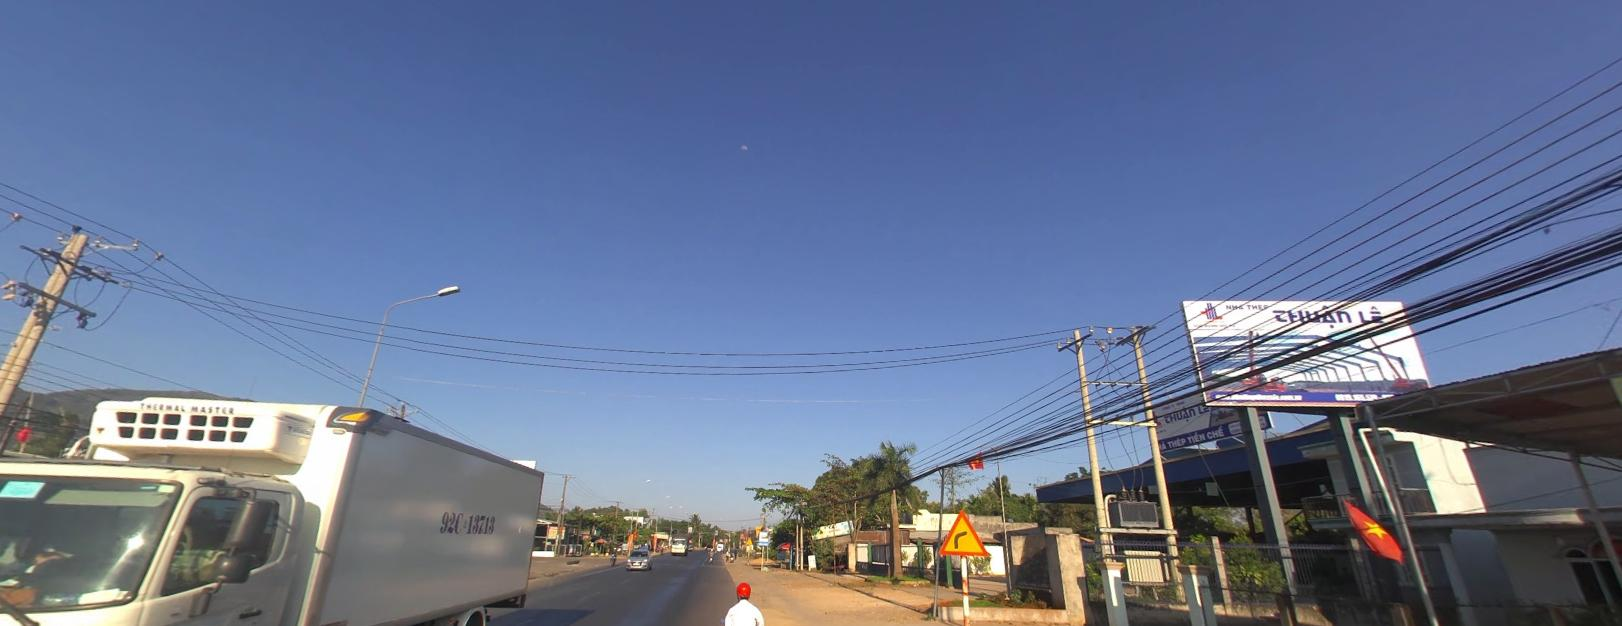Nguy hiem: (937, 504, 991, 561), (745, 536, 753, 545)
